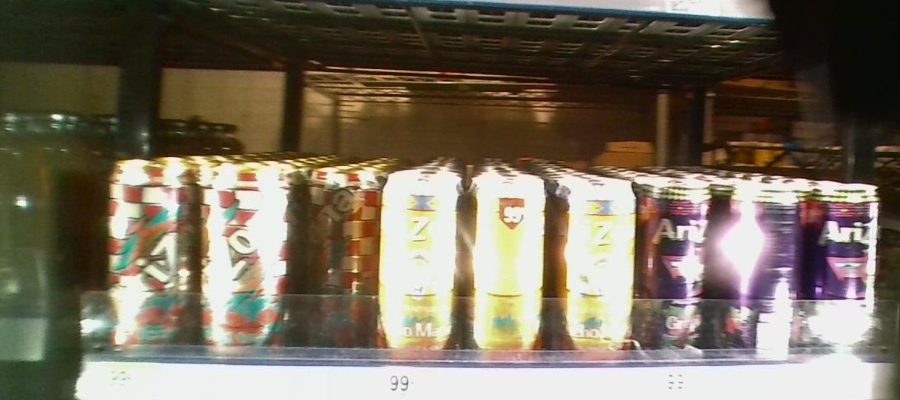bottle: (103, 151, 195, 362), (200, 156, 292, 358), (717, 168, 801, 358), (382, 162, 462, 360), (556, 172, 639, 356), (472, 169, 551, 360), (805, 164, 884, 354), (305, 162, 377, 356), (641, 172, 713, 356)
